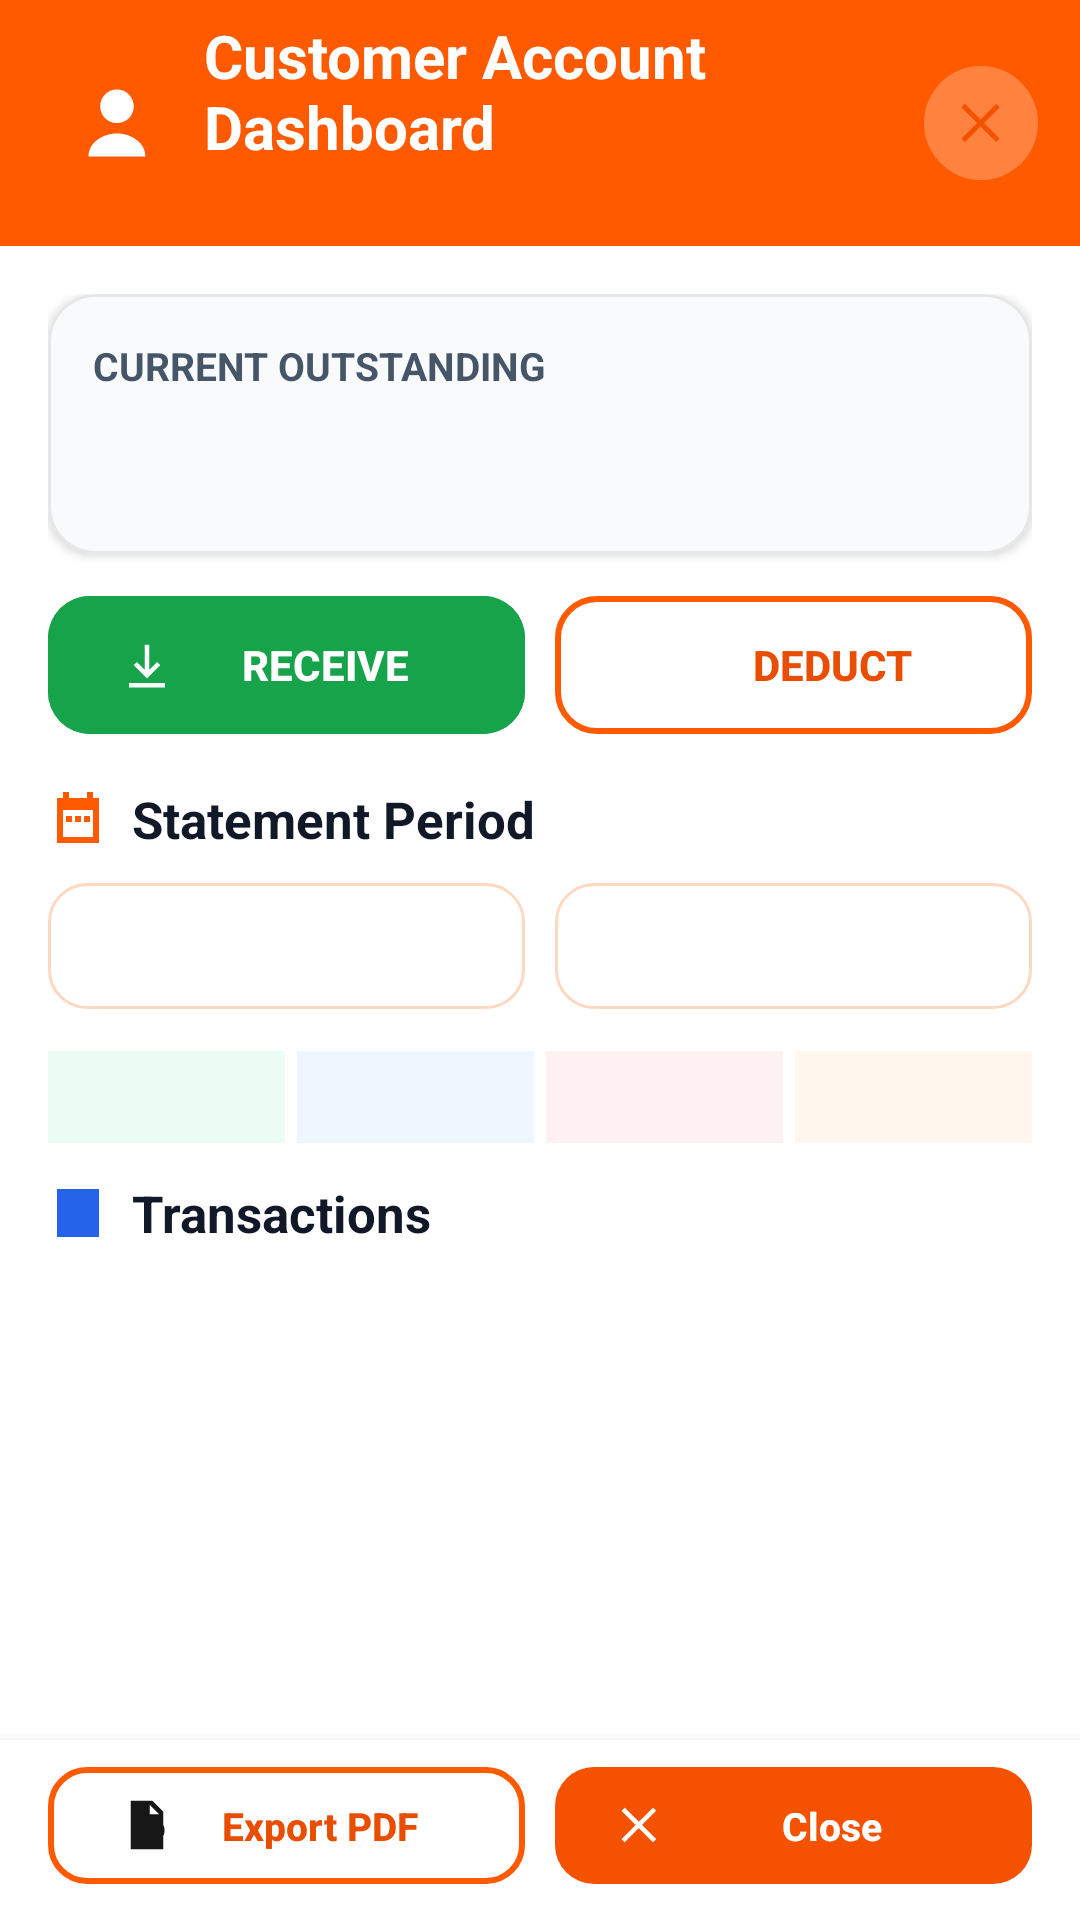

Screen size 1080x1920. Icon name, then its box in pixels as (x1=x1, y1=y1, x2=x2, y2=y2):
Close dashboard: (x1=924, y1=66, x2=1038, y2=180)
